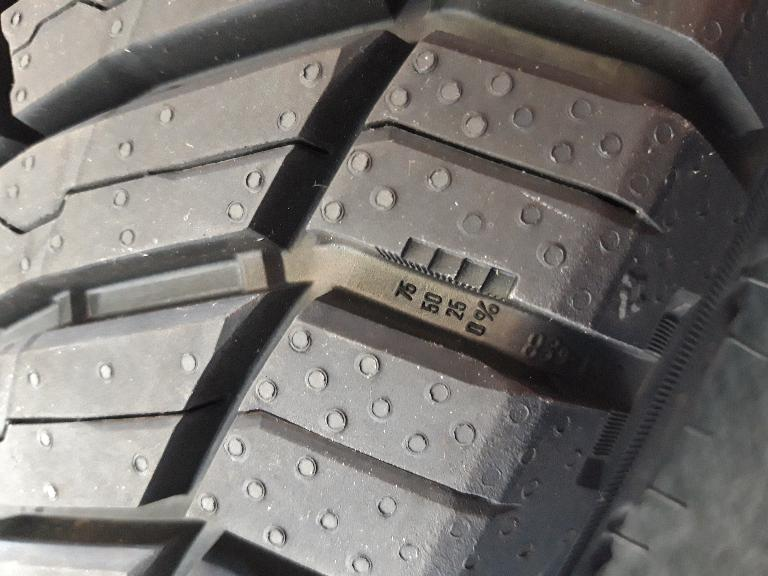temoin:100: (373, 235, 522, 307)
